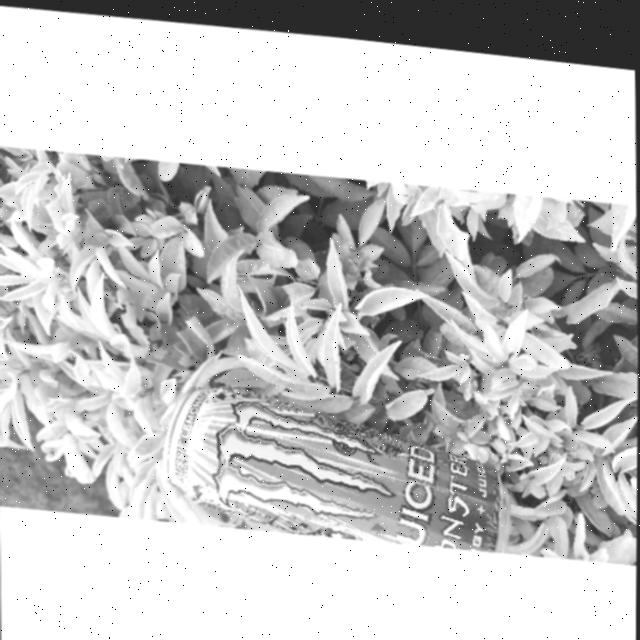Monster Aussie Lemonade: (164, 367, 515, 548)
